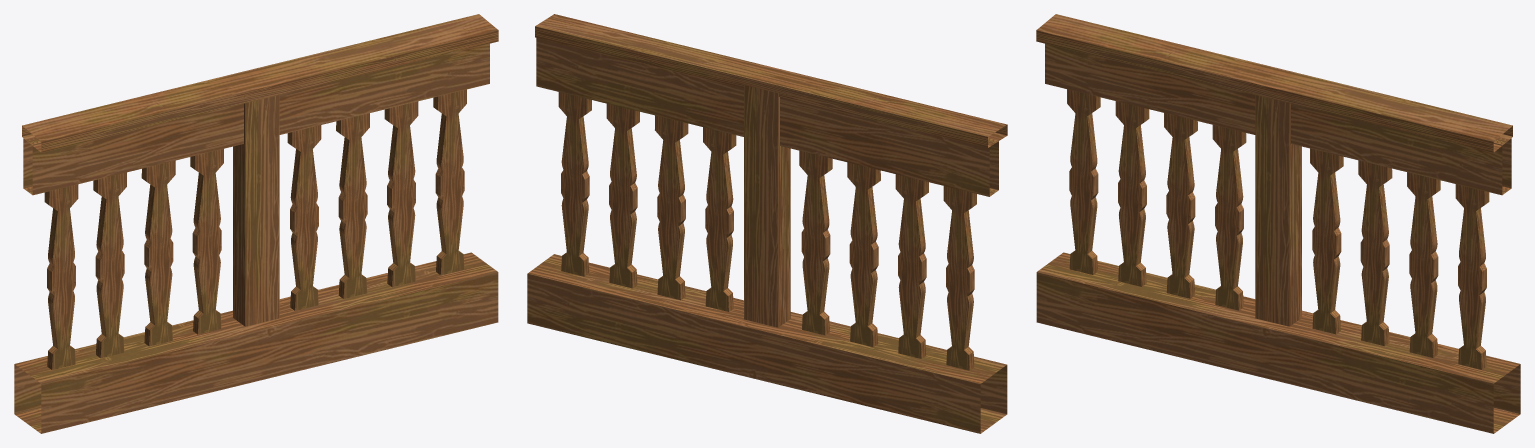
The model's file is Balcony_Simple_Straight.glb.
3 renders of one model, left to right at view 1: azimuth 30°, elevation 25°; view 2: azimuth 150°, elevation 25°; view 3: azimuth 330°, elevation 25°, orthographic.
Parts seen in each view (by area): view 1: Balcony_Simple_Straight; view 2: Balcony_Simple_Straight; view 3: Balcony_Simple_Straight.
Part boxes in pixels (x1,y1,x2,y2): Balcony_Simple_Straight: (14,14,498,433); Balcony_Simple_Straight: (527,14,1007,433); Balcony_Simple_Straight: (1036,14,1520,433).
Bounding box in the file's own units: 2 × 1.23 × 0.2063.
Materials: 1 (1 with a texture image).
